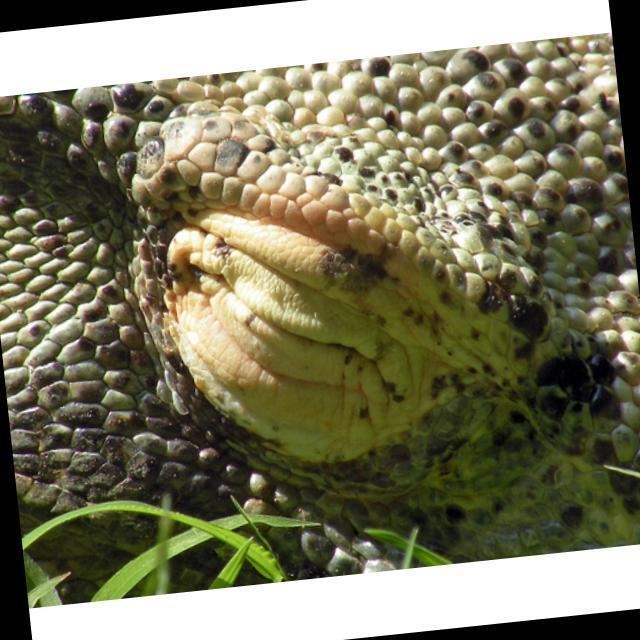KomodoDragon: (0, 32, 640, 605)
